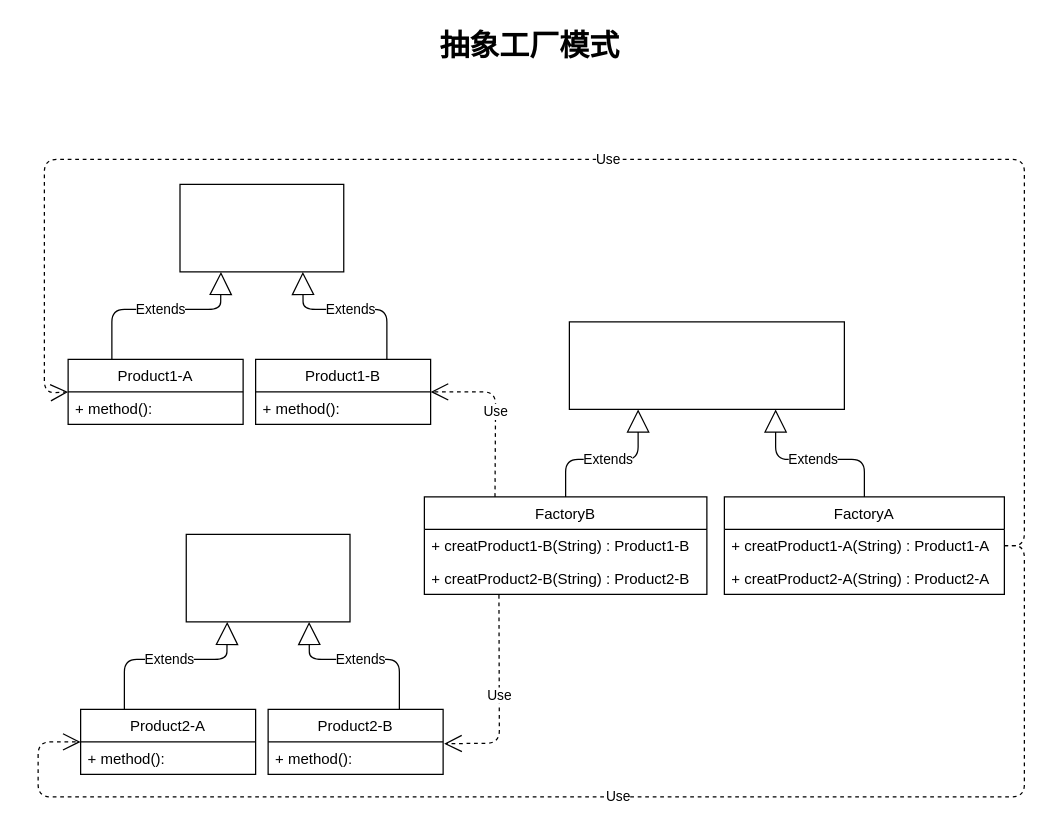
The diagram is 1064 pixels wide and 836 high, and some of its shapes have lost their labels. The centre of each missing label's shape, as x and y in pixels:
"«abstract» AbstractProduct1 + method():" belongs at point 261,227.
"«abstract» AbstractProduct2 + method():" belongs at point 267,577.
"«abstract» Factory + creatProduct(String) : Product" belongs at point 706,365.
